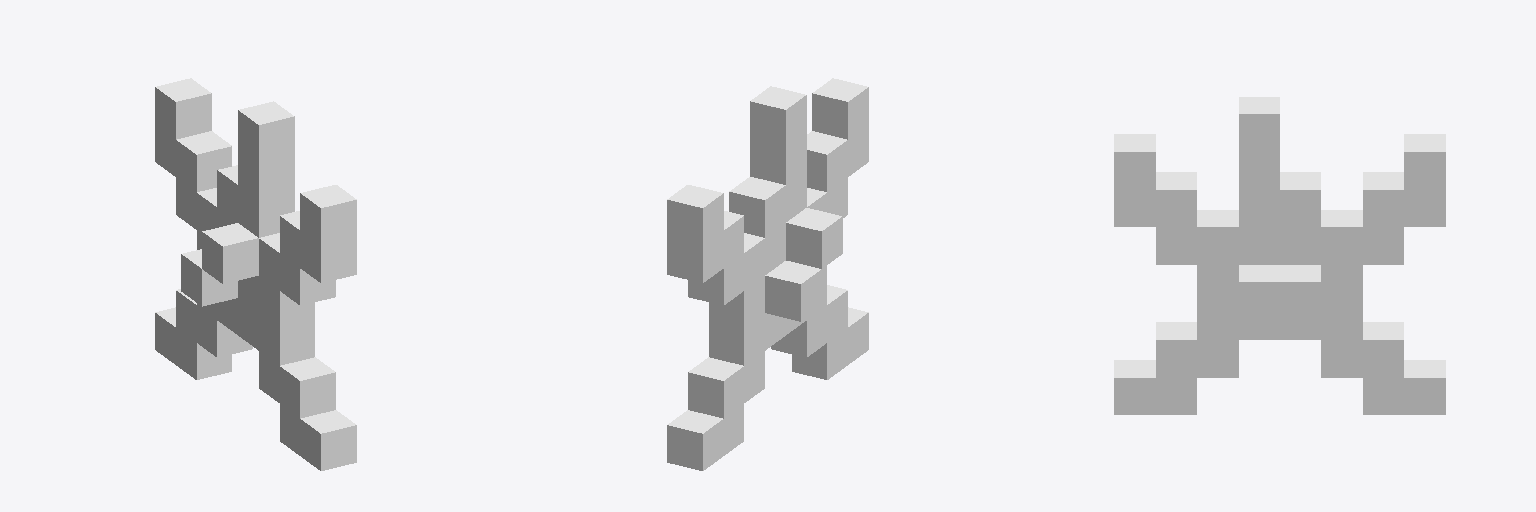
Rendered from Star.obj.
The picture shows the model from 3 angles: view 1: azimuth 30°, elevation 25°; view 2: azimuth 150°, elevation 25°; view 3: azimuth 270°, elevation 25°; orthographic projection.
Visible parts, largest first — view 1: object 1; view 2: object 1; view 3: object 1.
Part boxes in pixels (left/top/right/bottom): object 1: left=155, top=78, right=356, bottom=470; object 1: left=667, top=78, right=868, bottom=470; object 1: left=1114, top=97, right=1445, bottom=414.
Size of the model in its own units: 0.3 by 0.8 by 0.8.